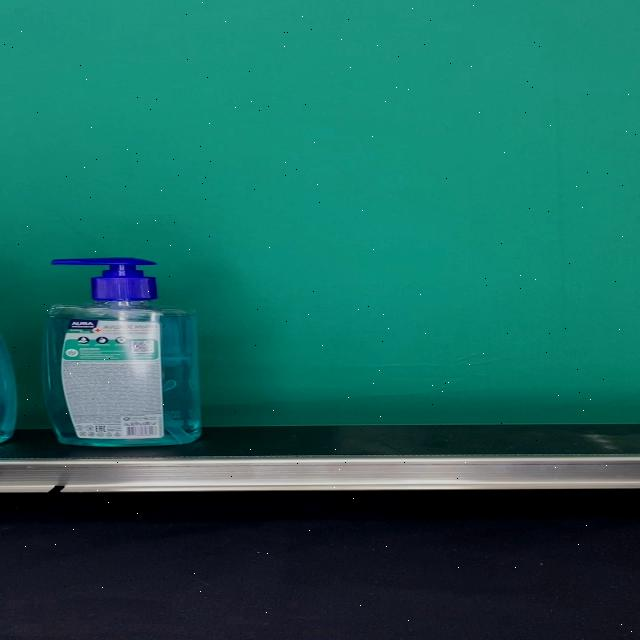Bottle: (45, 259, 202, 446)
Cap: (52, 258, 156, 302)
